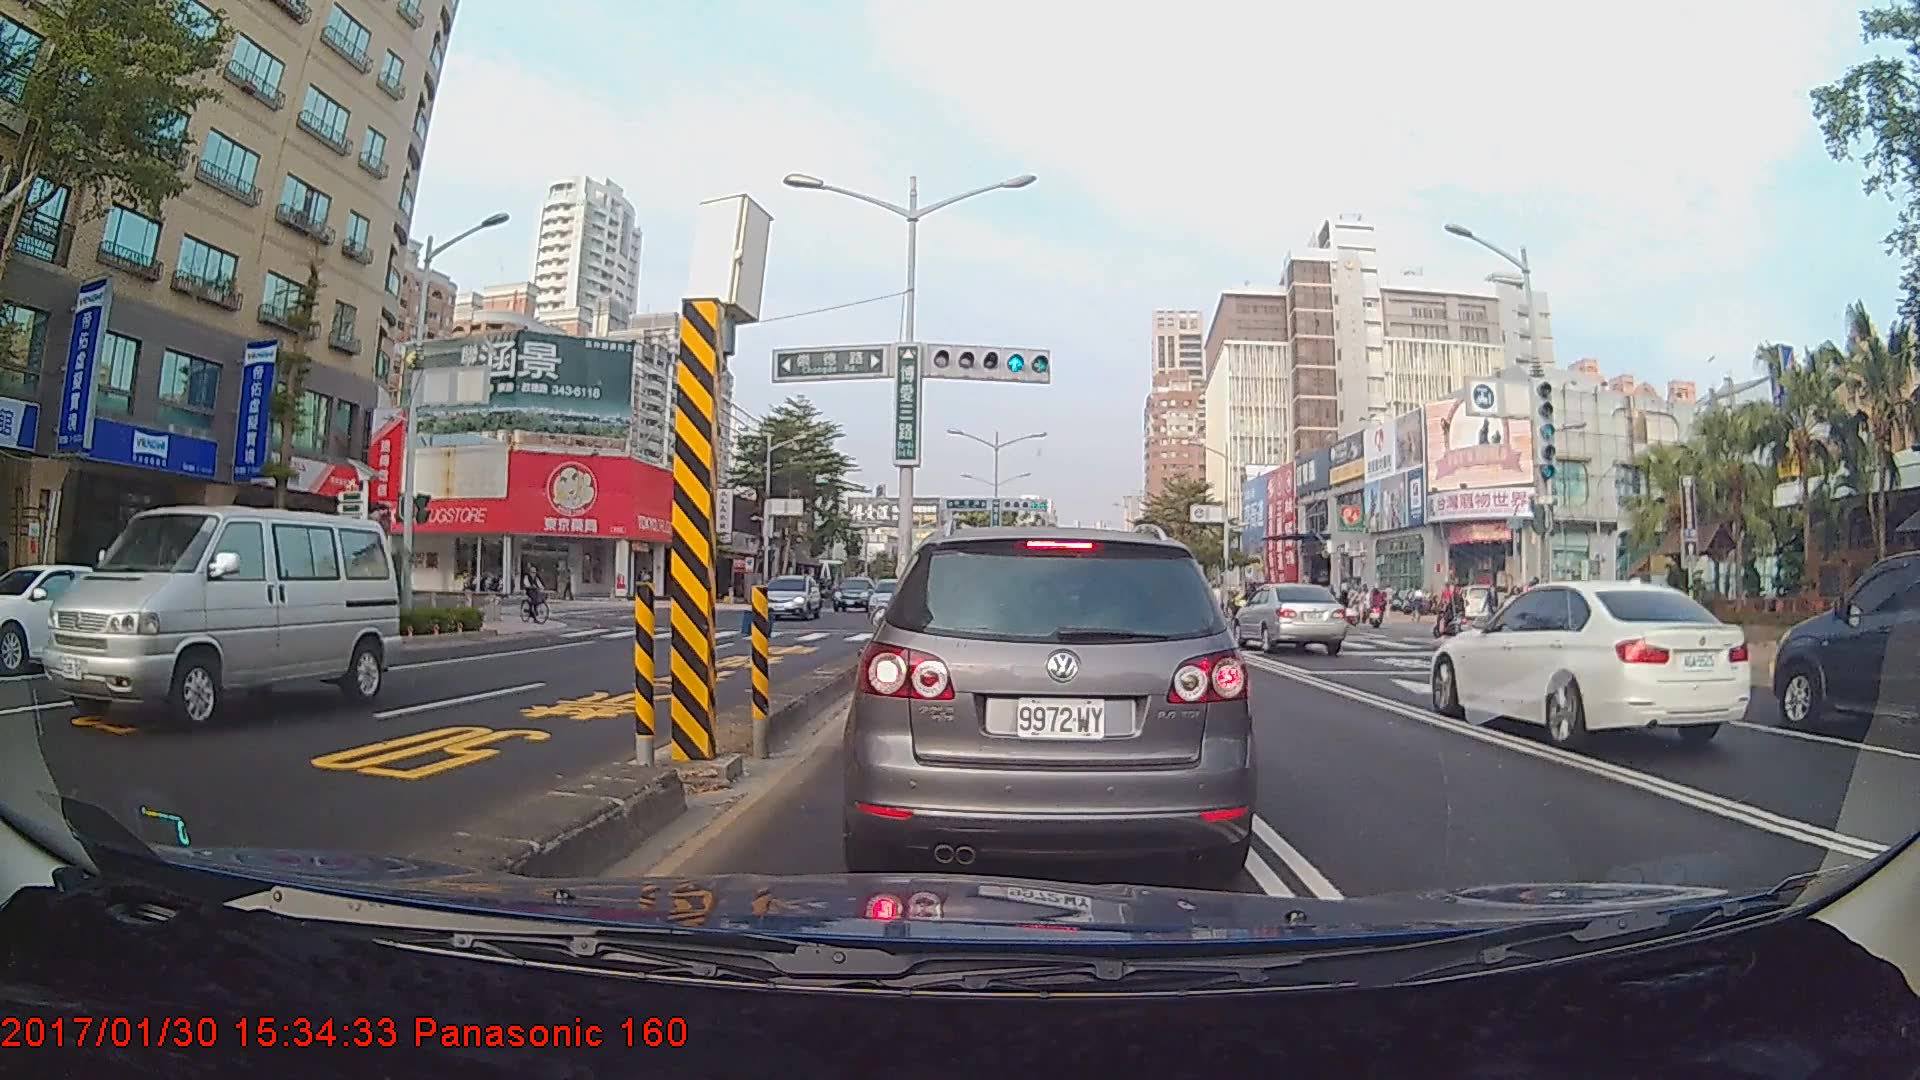rider: (518, 559, 561, 629), (1436, 582, 1473, 646)
vehicle: (855, 519, 1250, 878), (39, 504, 402, 734), (1423, 577, 1752, 748), (1773, 552, 1919, 741), (0, 561, 157, 671), (1230, 580, 1349, 655), (755, 574, 820, 621), (831, 576, 876, 612)
